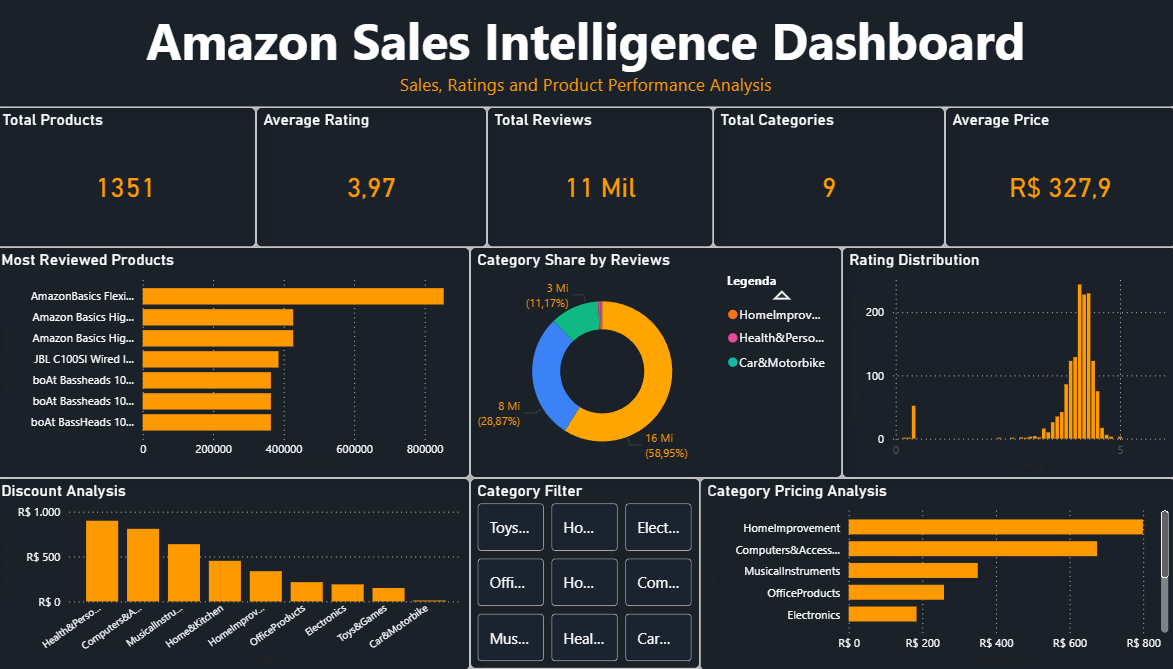

The dashboard page shown, as its layout file describes it:
{"tool":"powerbi","page":{"name":"Página 1","canvas":[1280,720],"ordinal":0},"visuals":[{"type":"textbox","title":"Sales, Ratings and Product Performance Analysis","box":[8.1,0,1263.5,116.5],"z":0},{"type":"card","title":"Total Products","fields":{"Values":["amazon.Product Qty."]},"box":[8.1,116.5,279.2,150],"z":1000},{"type":"card","title":"Average Rating","fields":{"Values":["amazon.Average Rating"]},"box":[287.3,116.5,246.9,150],"z":2000},{"type":"card","title":"Total Reviews","fields":{"Values":["amazon.Total Reviews"]},"box":[534.2,116.5,242.3,150],"z":3000},{"type":"card","title":"Total Categories","fields":{"Values":["amazon.Total Categories"]},"box":[776.5,116.5,248.1,150],"z":4000},{"type":"card","title":"Average Price","fields":{"Values":["amazon.Average Price"]},"box":[1024.6,116.5,246.9,150],"z":5000},{"type":"barChart","title":"Most Reviewed Products","fields":{"Category":["amazon.product_name"],"Y":["Sum(amazon.rating_count)"]},"box":[7.7,266,508.9,246.7],"z":6000},{"type":"donutChart","title":"Category Share by Reviews","fields":{"Y":["Sum(amazon.rating_count)"],"Category":["amazon.category.1"]},"box":[516.5,266.3,397.8,247],"z":7000},{"type":"lineClusteredColumnComboChart","title":"Rating Distribution","fields":{"Category":["amazon.rating"],"Y":["CountNonNull(amazon.product_name)"]},"box":[913.8,266.5,357.7,246.9],"z":8000},{"type":"barChart","title":"Category Pricing Analysis","fields":{"Category":["amazon.category.1"],"Y":["amazon.Average Price"]},"box":[762.4,513.3,509,206.4],"z":9000},{"type":"columnChart","title":"Discount Analysis","fields":{"Category":["amazon.category.1"],"Y":["amazon.Average Discount"]},"box":[8,513,509,206],"z":10000},{"type":"advancedSlicerVisual","title":"Category Filter","fields":{"Values":["amazon.category.1"]},"box":[516.5,513.3,245.9,204.2],"z":11000}]}

Visuals, with their boxes in screenshot pixels (x1, y1, x2, y2), scaled from the page's 1280x720 canvas onto the 1173x669 screenshot:
"Sales, Ratings and Product Performance Analysis" textbox: 7 0 1165 108
"Total Products" card: 7 108 263 248
"Average Rating" card: 263 108 490 248
"Total Reviews" card: 490 108 712 248
"Total Categories" card: 712 108 939 248
"Average Price" card: 939 108 1165 248
"Most Reviewed Products" barChart: 7 247 473 476
"Category Share by Reviews" donutChart: 473 247 838 477
"Rating Distribution" lineClusteredColumnComboChart: 837 248 1165 477
"Category Pricing Analysis" barChart: 699 477 1165 668
"Discount Analysis" columnChart: 7 477 474 668
"Category Filter" advancedSlicerVisual: 473 477 699 667
